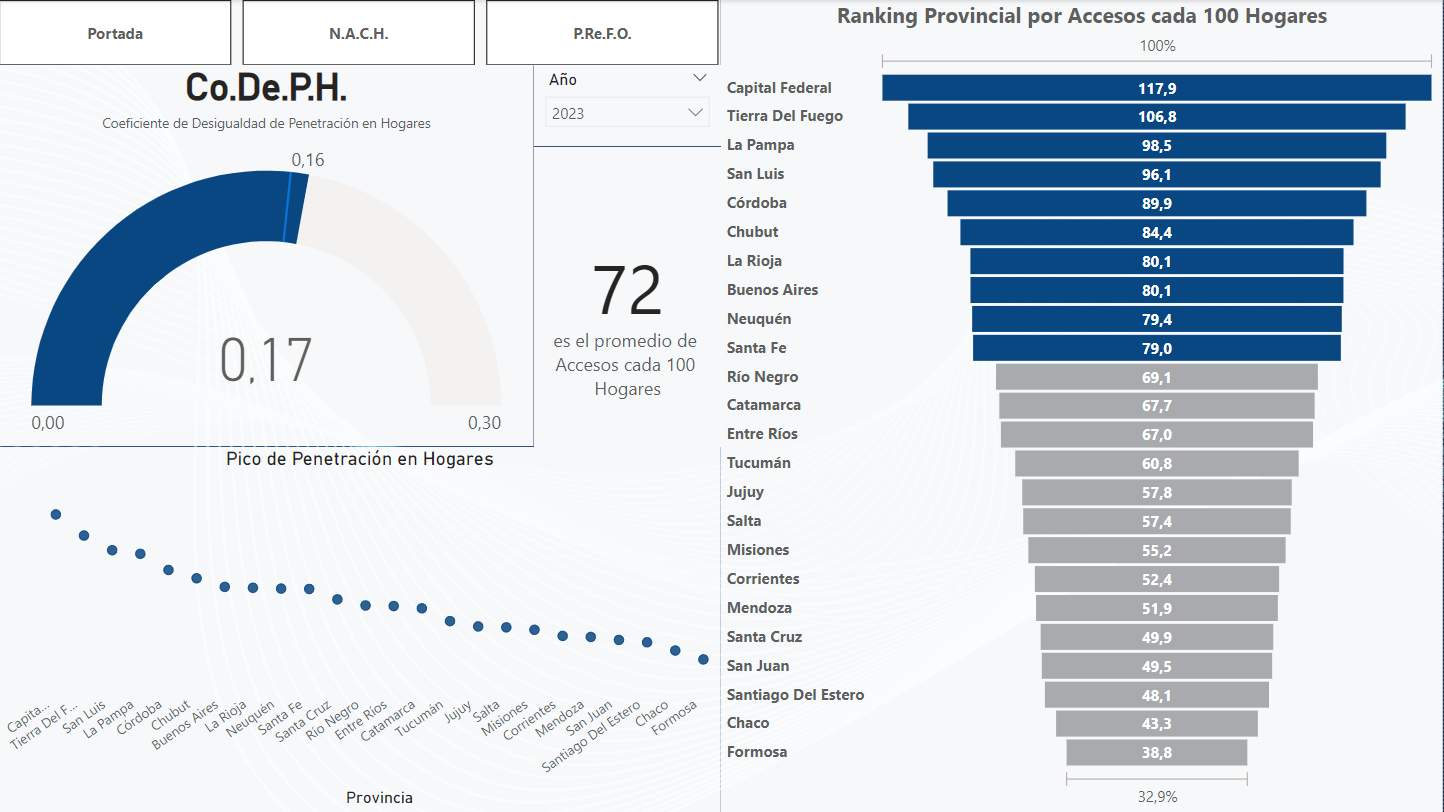

The page's visual inventory and layout, read from the dashboard file:
{"tool":"powerbi","page":{"name":"Co.De.P.H.","canvas":[1280,720],"ordinal":2},"visuals":[{"type":"pageNavigator","box":[0,0,640,58],"z":1},{"type":"gauge","title":"Co.De.P.H.","fields":{"Y":["EDA.CoDePH (2023 if Unselected)"]},"box":[0,58,474,338],"z":4},{"type":"card","fields":{"Values":["EDA.Penetracion hogares nacion (2023 if Unselected)"]},"box":[474,130,166,266],"z":8},{"type":"funnel","title":"Ranking Provincial por Accesos cada 100 Hogares","fields":{"Category":["EDA.Provincia"],"Y":["Avg(EDA.Accesos por cada 100 hogares)"]},"box":[640,0,640,720],"z":9},{"type":"scatterChart","title":"Pico de Penetración en Hogares","fields":{"X":["EDA.Provincia"],"Y":["Max(EDA.Accesos por cada 100 hogares)"]},"box":[0,396,640,324],"z":10},{"type":"slicer","fields":{"Values":["EDA.Año"]},"box":[474,58,166,72],"z":11}]}

Visuals, with their boxes in screenshot pixels (x1, y1, x2, y2), scaled from the page's 1280x720 canvas onto the 1444x812 screenshot:
pageNavigator: {"x1": 0, "y1": 0, "x2": 722, "y2": 65}
"Co.De.P.H." gauge: {"x1": 0, "y1": 65, "x2": 535, "y2": 447}
card - EDA.Penetracion hogares nacion (2023 if Unselected): {"x1": 535, "y1": 147, "x2": 722, "y2": 447}
"Ranking Provincial por Accesos cada 100 Hogares" funnel: {"x1": 722, "y1": 0, "x2": 1443, "y2": 811}
"Pico de Penetración en Hogares" scatterChart: {"x1": 0, "y1": 447, "x2": 722, "y2": 811}
slicer - EDA.Año: {"x1": 535, "y1": 65, "x2": 722, "y2": 147}
